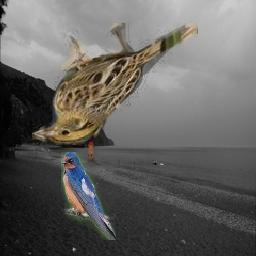Sparrow: (32, 23, 198, 145)
Swallow: (62, 152, 117, 240)
